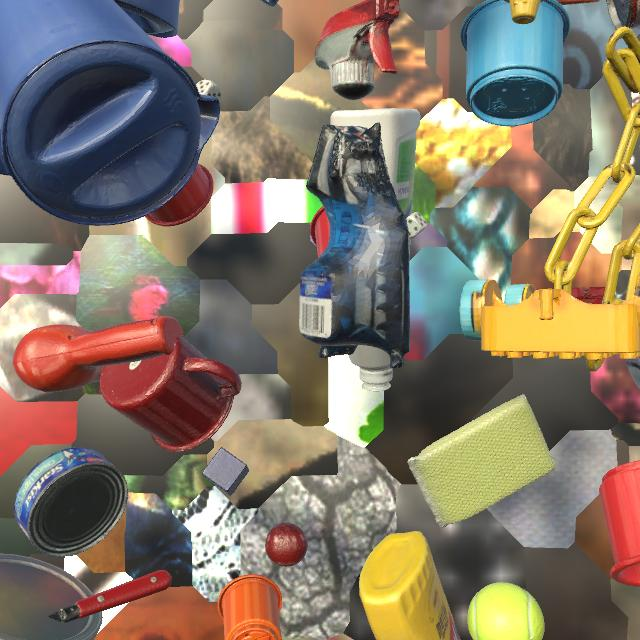ycb_005_tomato_soup_can: (606, 0, 640, 30)
ycb_006_mustard_bottle: (359, 531, 460, 640), (504, 0, 545, 24)
ycb_007_tuna_fish_can: (14, 447, 128, 557)
